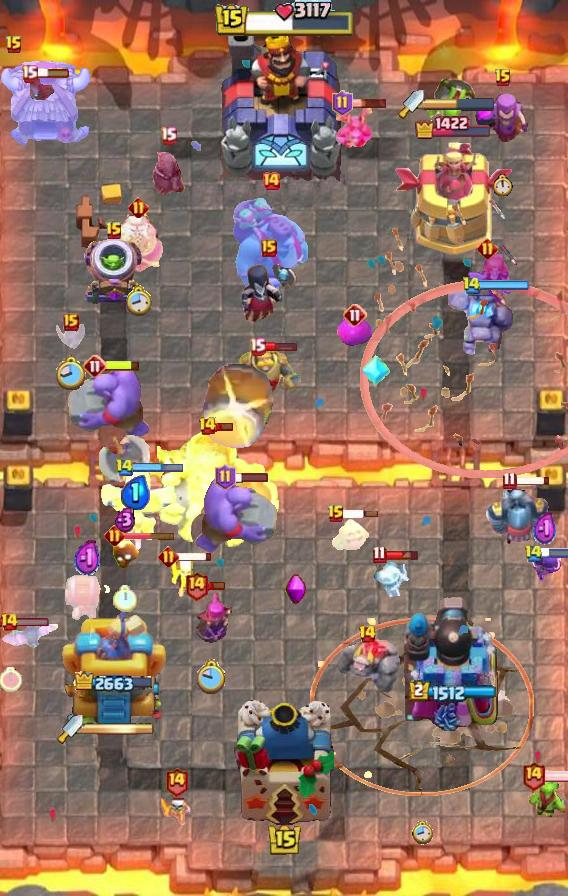archer-evolution: (192, 591, 232, 651)
axe: (97, 418, 151, 482)
bar: (132, 462, 183, 474), (0, 617, 50, 628), (478, 280, 529, 290), (122, 531, 176, 540), (105, 359, 141, 372), (351, 97, 388, 109), (233, 471, 269, 483), (35, 67, 71, 79), (385, 549, 420, 561), (176, 551, 213, 562), (514, 475, 551, 486), (263, 341, 298, 352), (343, 509, 379, 519), (543, 770, 568, 782), (540, 548, 568, 558), (206, 580, 226, 591), (214, 421, 234, 432)
bar-level: (164, 766, 189, 797), (521, 760, 546, 791), (184, 570, 209, 601), (83, 354, 107, 378), (343, 303, 367, 327), (215, 464, 236, 490), (332, 90, 353, 116), (158, 546, 179, 567), (104, 525, 125, 546), (477, 238, 498, 259), (128, 197, 149, 218), (261, 171, 281, 191), (358, 624, 377, 644), (0, 612, 19, 632), (198, 416, 217, 436), (524, 544, 543, 563), (115, 458, 134, 477), (462, 276, 481, 295), (327, 504, 345, 524), (105, 221, 123, 241), (494, 68, 512, 88), (5, 35, 23, 55), (249, 337, 266, 356), (160, 126, 177, 145), (21, 64, 38, 83), (63, 313, 79, 331), (261, 239, 277, 257), (372, 545, 387, 564), (502, 471, 517, 490)
bat: (51, 321, 91, 351), (28, 69, 60, 105)
bat-evolution: (0, 621, 60, 651)
cannoneer-tower: (404, 593, 502, 731)
clock: (56, 355, 87, 392), (197, 659, 227, 694), (124, 284, 152, 316), (113, 585, 137, 612), (0, 667, 22, 692), (412, 821, 433, 845), (494, 174, 513, 196)
dagger-duchess-tower: (394, 142, 513, 256), (62, 601, 166, 731)
dagger-duchess-tower-bar: (83, 722, 155, 736), (424, 97, 496, 111)
elixir: (74, 539, 101, 579), (120, 475, 150, 510), (533, 511, 557, 548), (114, 506, 136, 533)
elixir-golem-small: (337, 318, 373, 348)
evolution-symbol: (285, 573, 307, 607)
fire-spirit: (111, 539, 139, 571)
goblin: (526, 780, 568, 818)
goblin-ball: (424, 76, 478, 124)
golemite: (448, 284, 514, 356), (333, 633, 401, 693)
heal-spirit: (331, 515, 371, 553)
ice-spirit: (366, 555, 412, 599)
ice-spirit-evolution-symbol: (362, 353, 390, 387)
king-tower: (219, 21, 349, 181), (234, 700, 334, 826)
king-tower-bar: (213, 0, 355, 40)
knight: (233, 349, 302, 406)
mega-minion: (484, 478, 550, 546)
mini-pekka: (142, 147, 194, 199)
minion: (334, 101, 376, 149)
mortar-evolution: (82, 237, 146, 307)
mother-witch: (474, 91, 532, 147)
night-witch: (238, 260, 300, 326)
skeleton: (169, 554, 199, 598), (161, 793, 191, 825)
skeleton-evolution: (530, 550, 561, 586)
tower-bar: (409, 680, 498, 703), (414, 115, 493, 140), (74, 671, 155, 695)
valkyrie: (461, 254, 513, 306)
wall-breaker: (62, 572, 112, 628)
